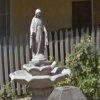Statue: (23, 5, 56, 63)
